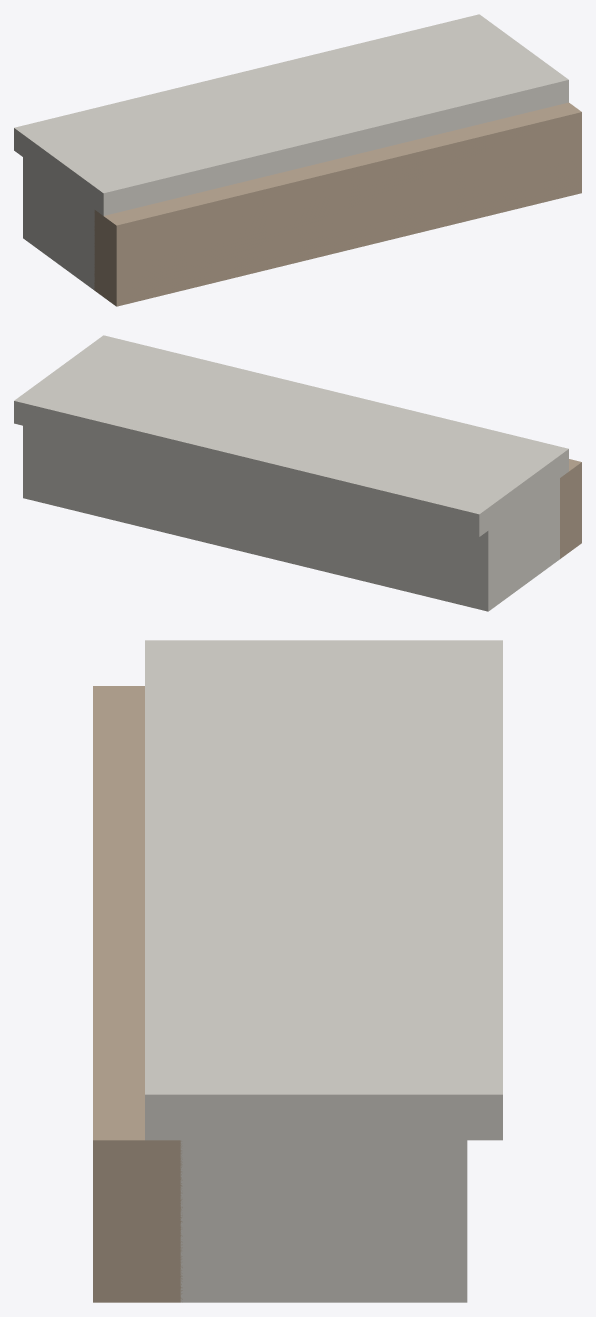
Rendered from pond_edge.glb.
3 views of the same model, one above another, from view 1: azimuth 30°, elevation 25°; view 2: azimuth 150°, elevation 25°; view 3: azimuth 270°, elevation 25° (orthographic). The views are drawn at different scales.
Visible parts, largest first — view 1: props_pond_edge; view 2: props_pond_edge; view 3: props_pond_edge.
Boxes of the visible parts, bbox=[...] form: props_pond_edge: bbox=[14, 14, 581, 306]; props_pond_edge: bbox=[14, 335, 581, 611]; props_pond_edge: bbox=[93, 640, 502, 1302].
Bounding box in the file's own units: 3 × 0.6398 × 1.14.
